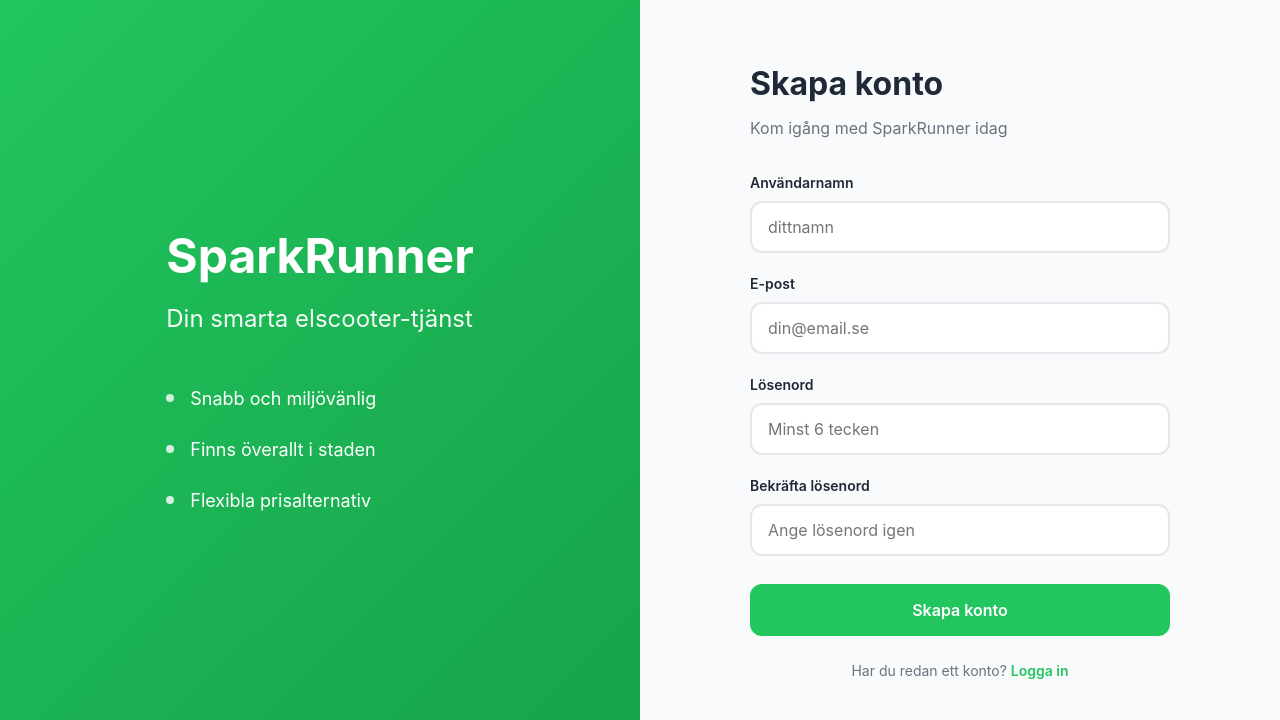
it: RegisterPage › should show error when passwords do not match
In the field labelled "Användarnamn": (960, 227) left=750, top=201, right=1170, bottom=253, type "testuser"
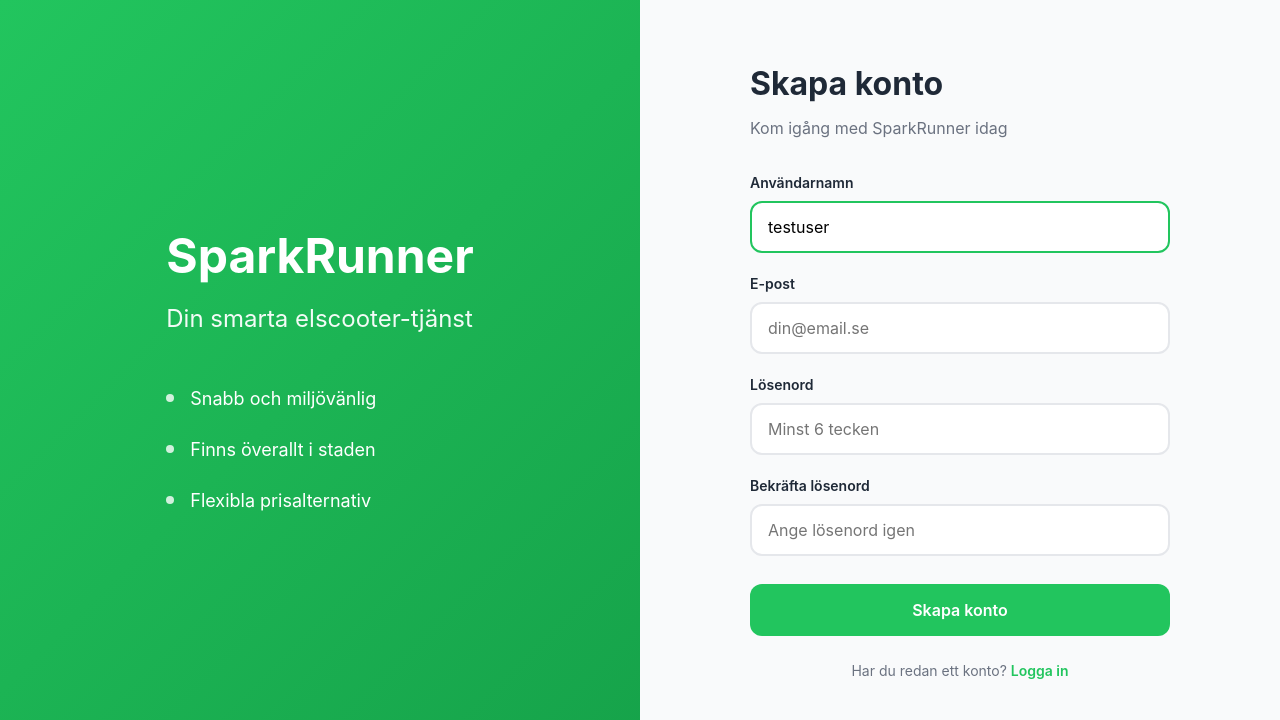
In the field labelled "E-post": (960, 328) left=750, top=302, right=1170, bottom=354, type "test@example.com"
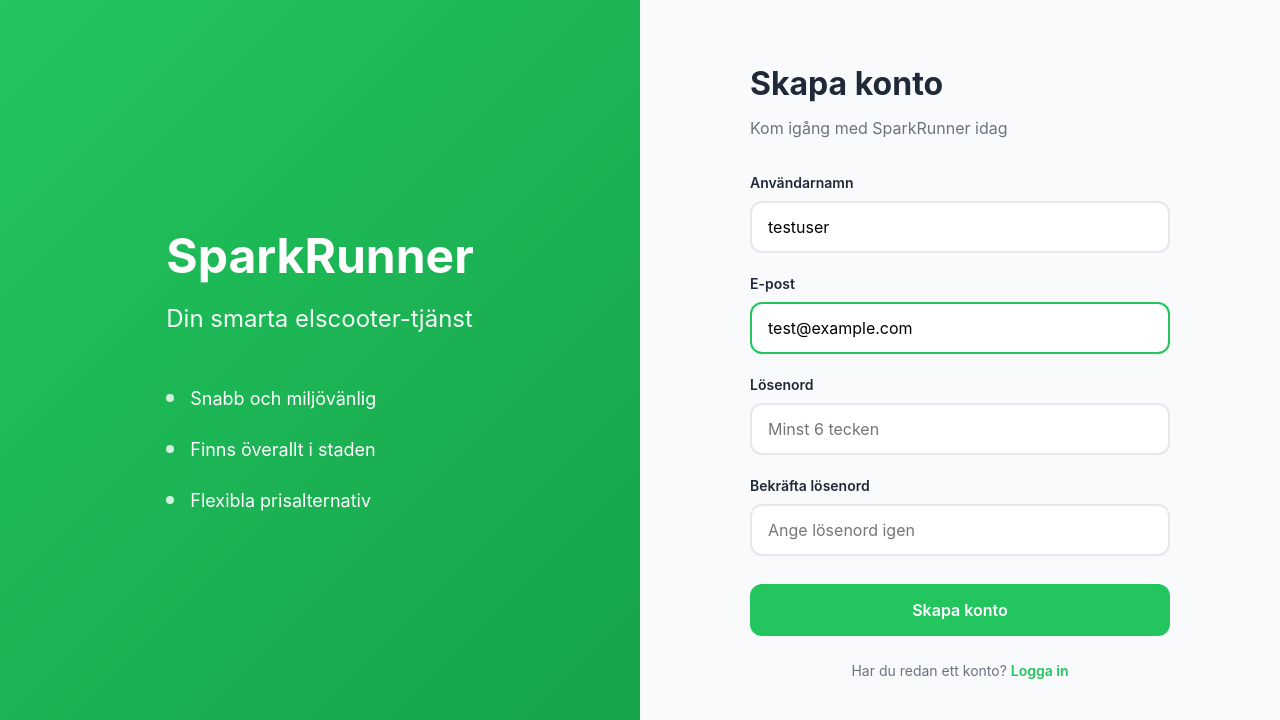
In the password field labelled "Lösenord": (960, 429) left=750, top=403, right=1170, bottom=455, type "password123"
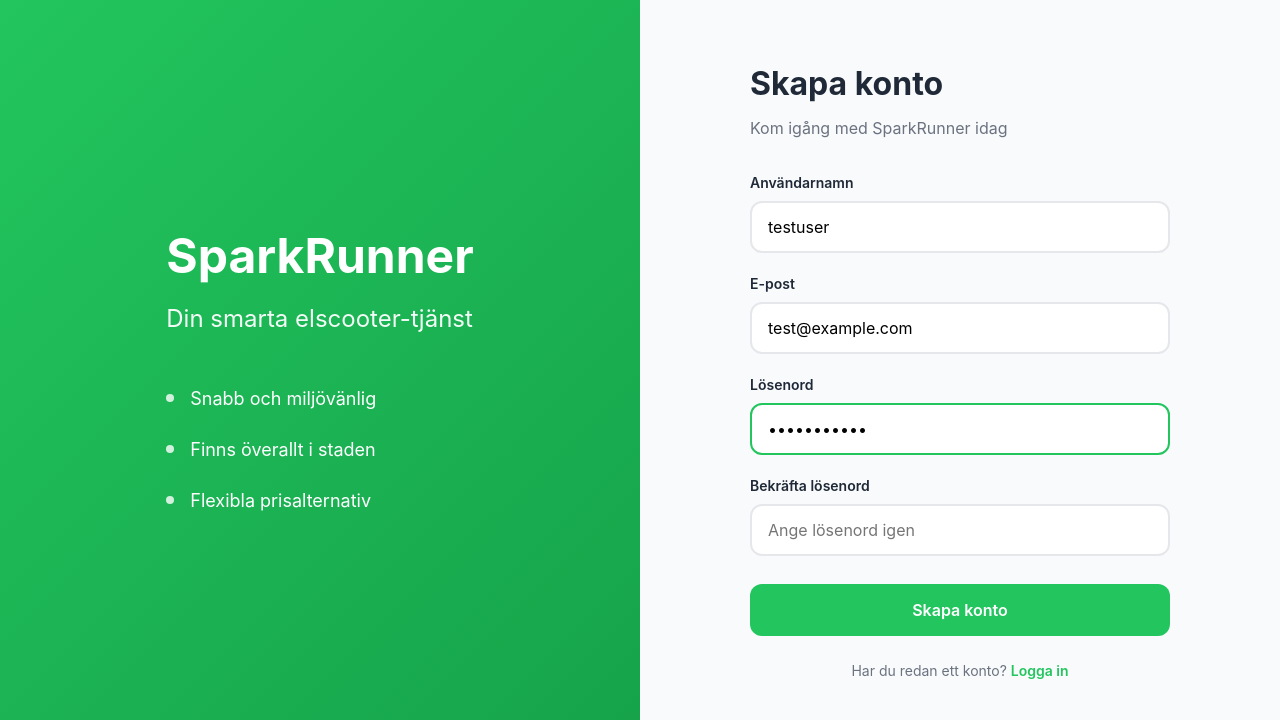
In the password field labelled "Bekräfta lösenord": (960, 530) left=750, top=504, right=1170, bottom=556, type "differentpassword"
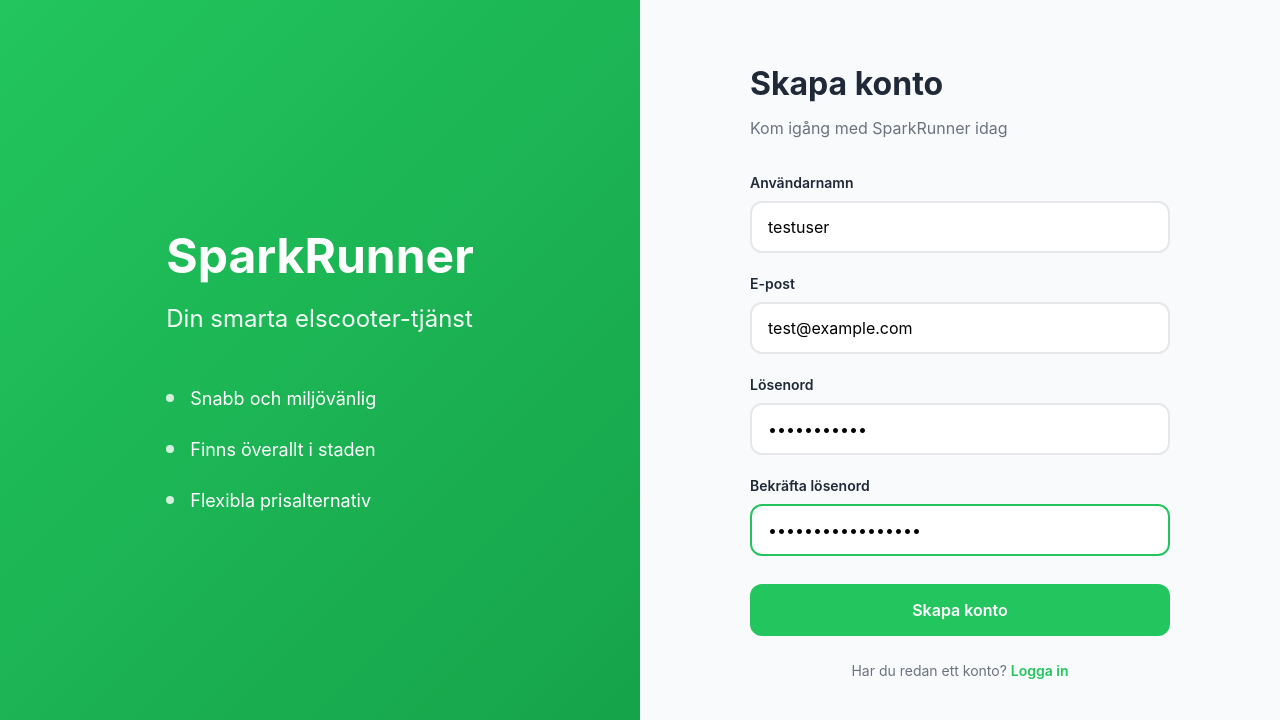
Click the button "Skapa konto": (960, 610) left=750, top=584, right=1170, bottom=636
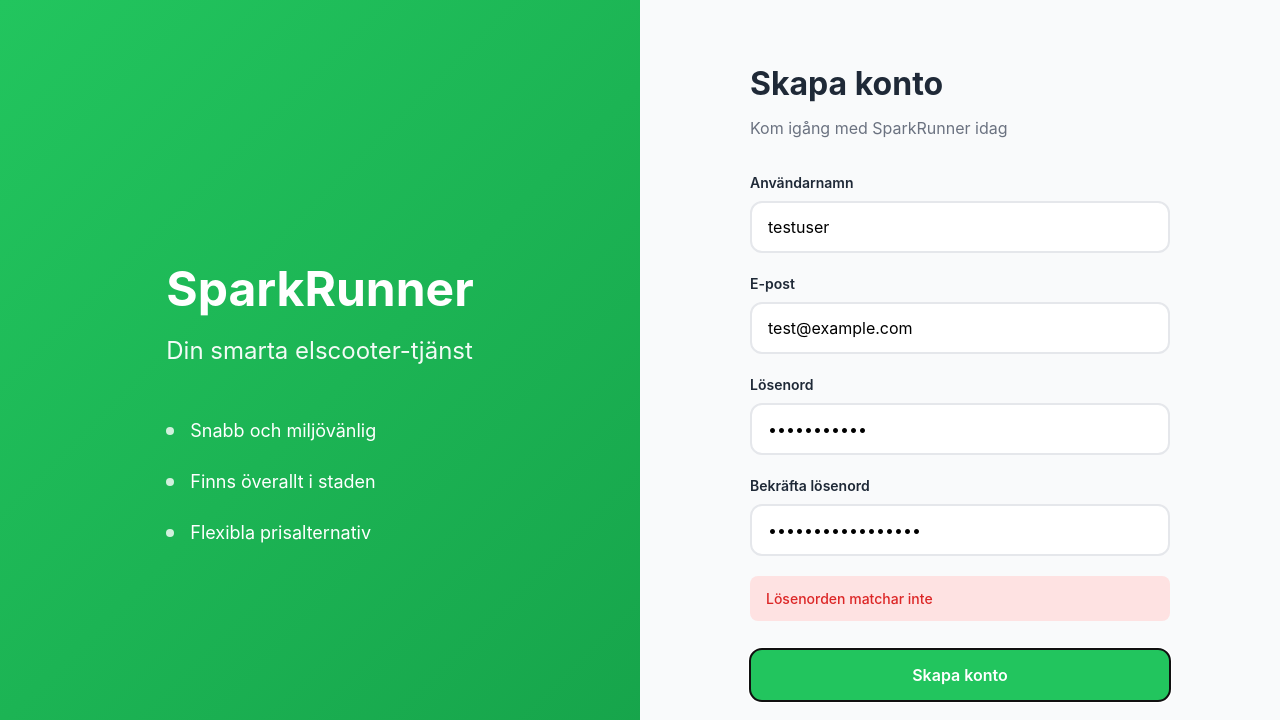
Expected: the text "Lösenorden matchar inte" is shown, left=750, top=576, right=1170, bottom=621
